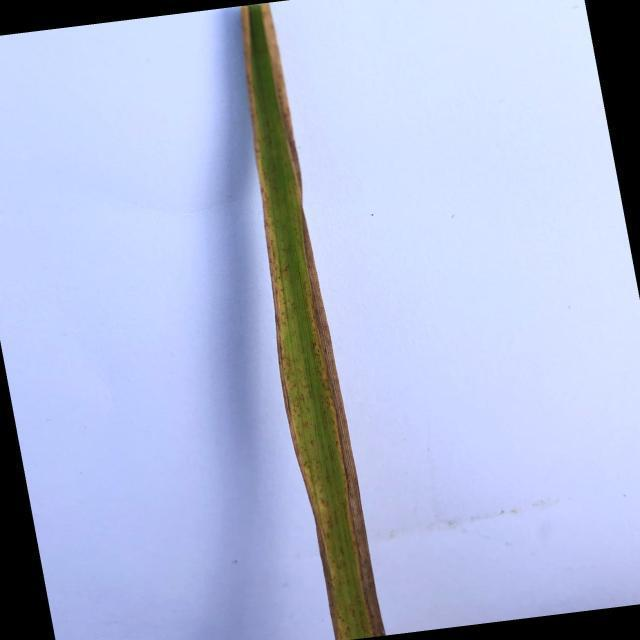Rice Tungro: (237, 6, 376, 580)
